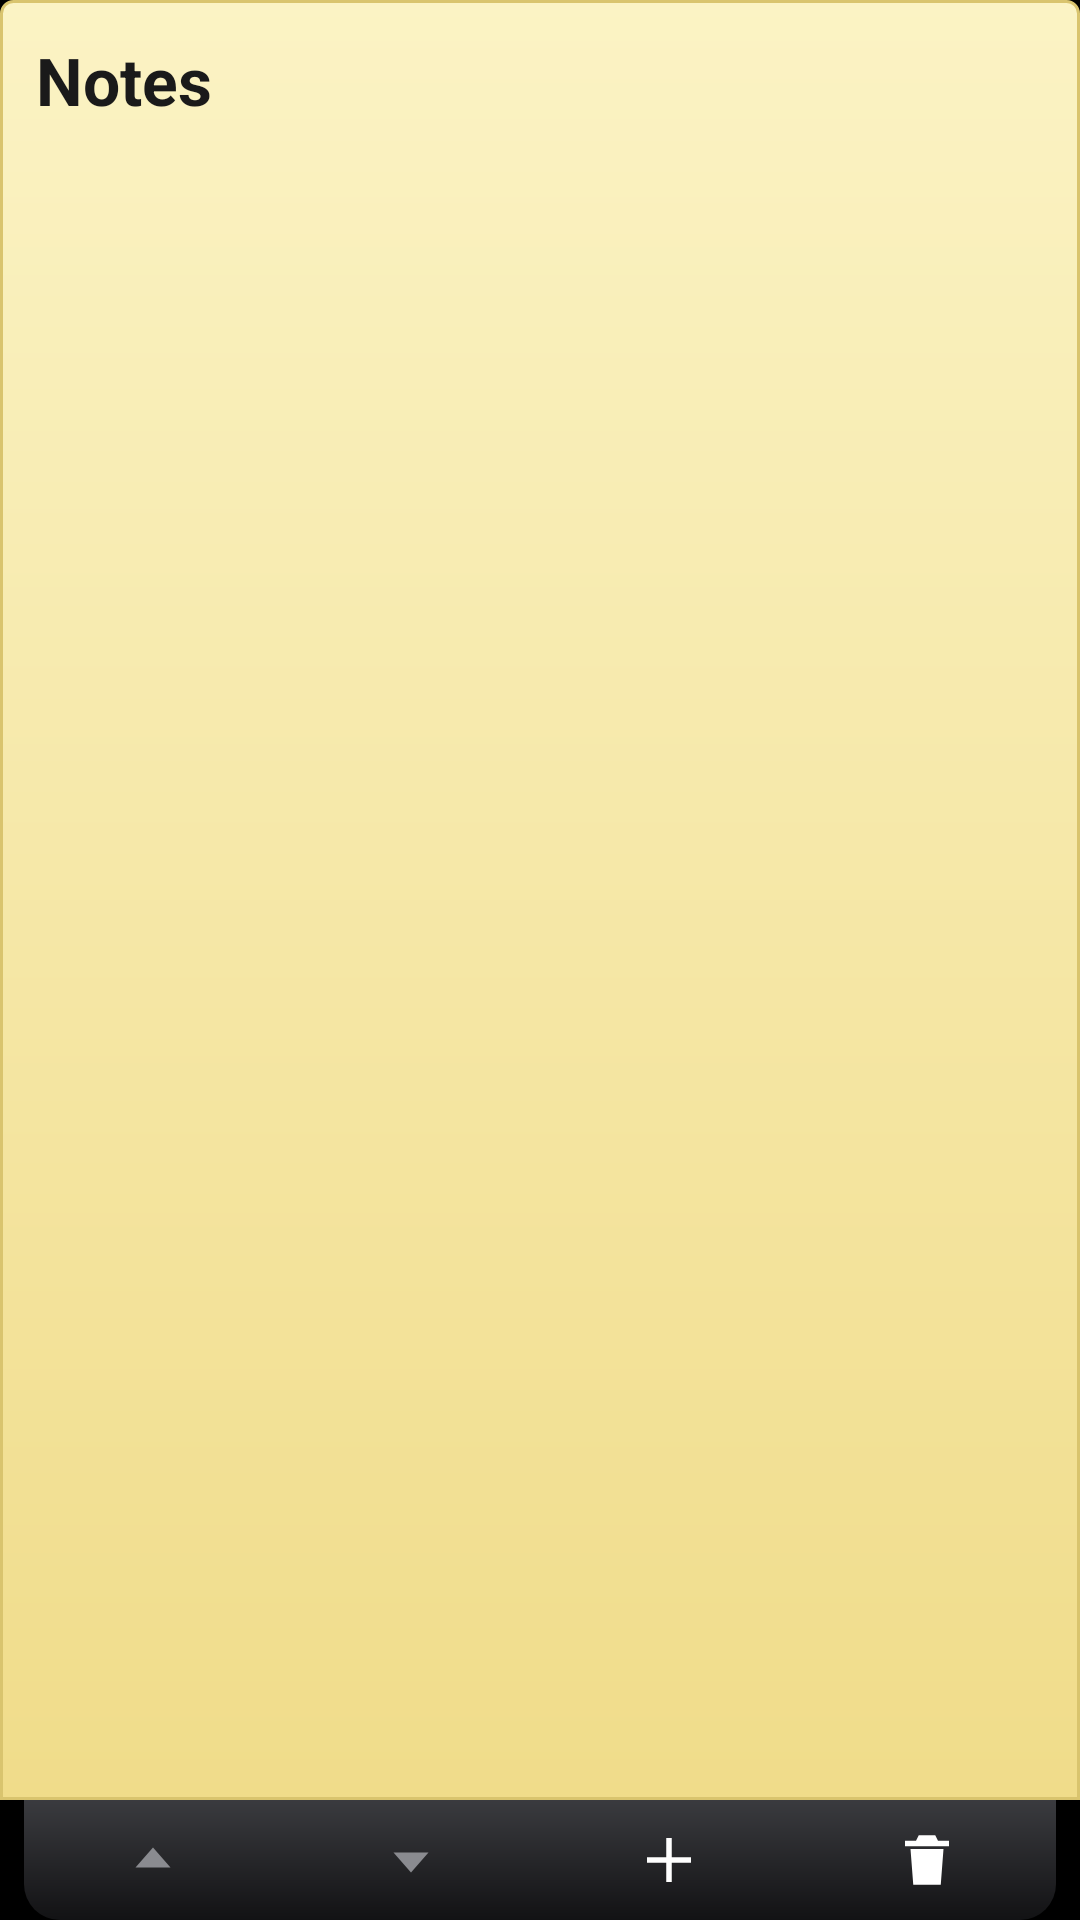

Icon click points for this 1080px x 1920px phone screenshot, format point (x, y):
Delete note: point (927, 1860)
New note: point (669, 1860)
Next note: point (411, 1860)
Previous note: point (153, 1860)
